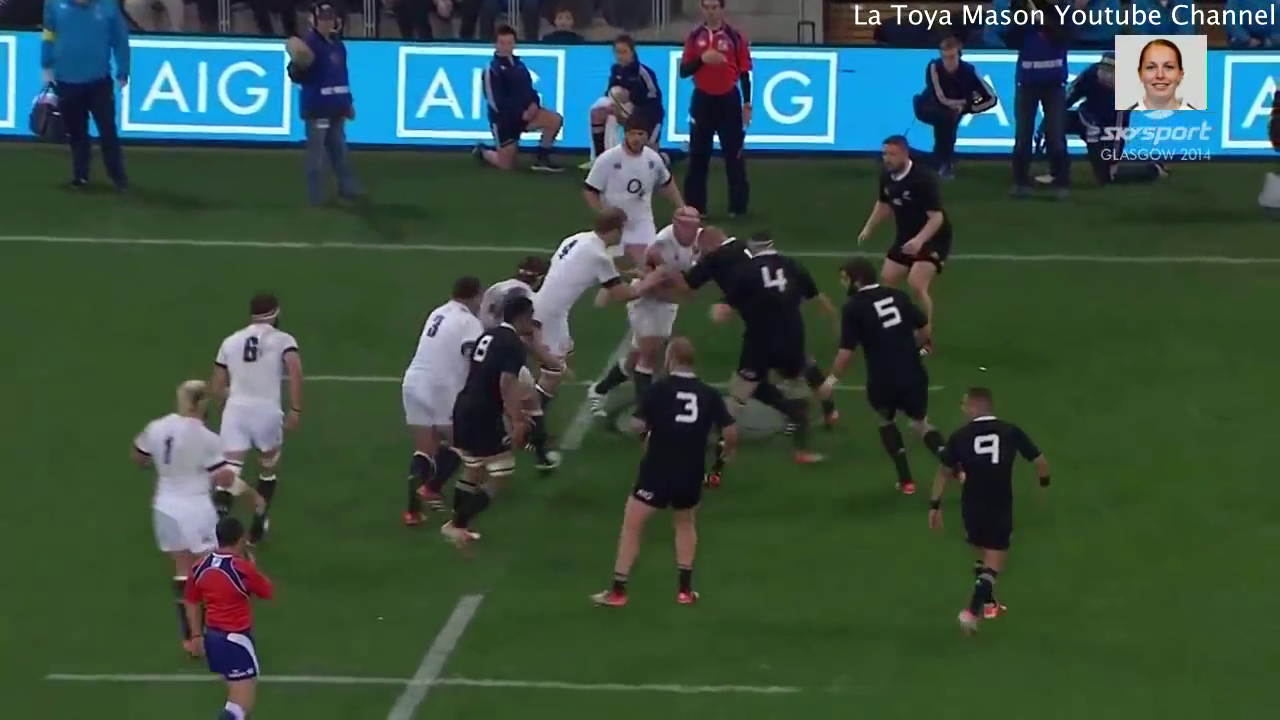10_metre: (39, 579, 866, 720)
player: (598, 330, 726, 610), (917, 380, 1052, 645), (436, 296, 540, 557), (832, 259, 946, 496), (716, 227, 824, 468), (393, 273, 483, 526), (213, 286, 304, 506), (193, 518, 272, 720), (860, 130, 951, 305), (148, 369, 222, 580), (537, 206, 627, 335), (624, 202, 692, 370), (581, 128, 675, 216)
